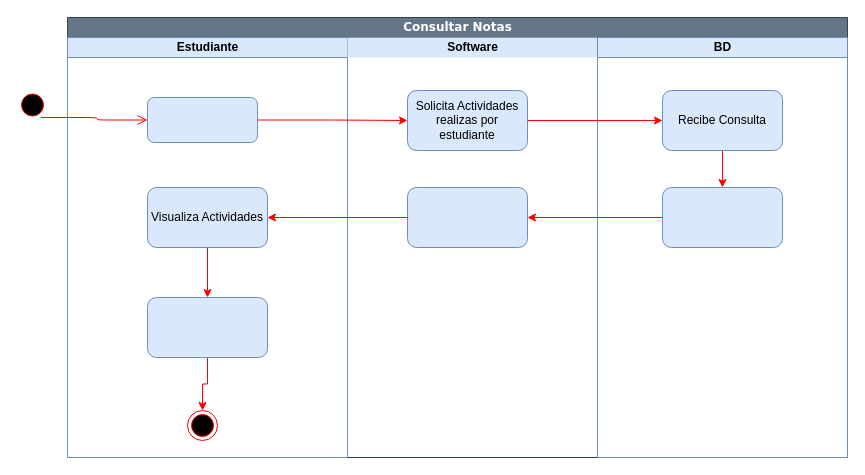
This 865x475 diagram has some shape labels left out. The centre of each missing label's shape, as x and y in pixels:
Devuelve resultado: point 722,217
ingresa al modulo cosultar nota: point 202,119
Muestra Actividades: point 467,217
Visualiza notas de actividades: point 207,327
